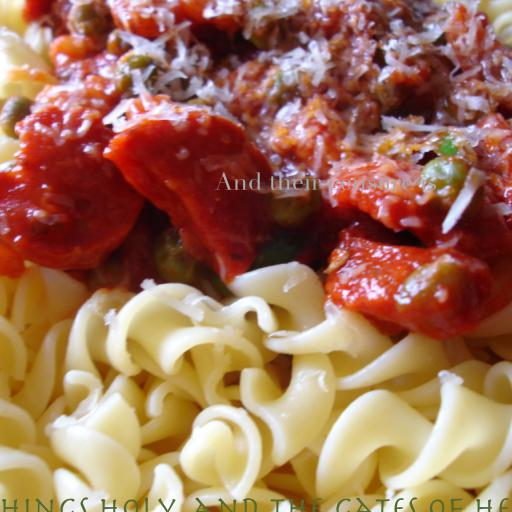Didot: (215, 172, 437, 191)
Herculanum: (0, 497, 512, 512)
